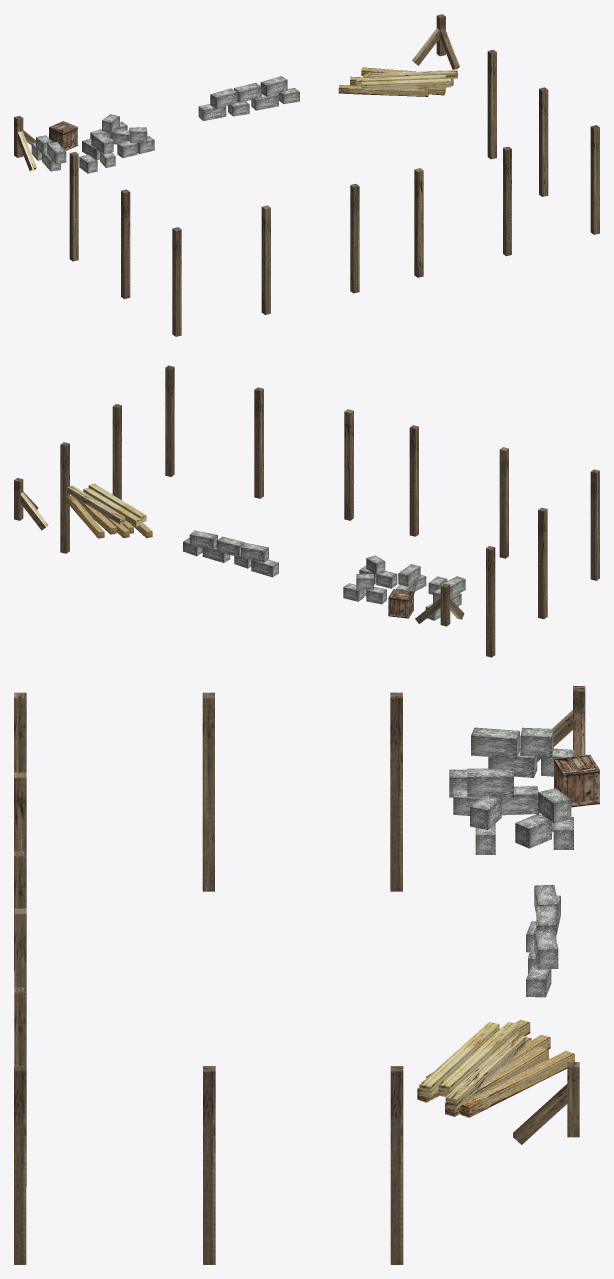
File: found_dock_6x4.dae
The picture shows the model from 3 angles, top to bottom: view 1: azimuth 30°, elevation 25°; view 2: azimuth 150°, elevation 25°; view 3: azimuth 270°, elevation 25°; orthographic projection. The views are drawn at different scales.
Visible parts, largest first — view 1: Object14_Pivot; view 2: Object14_Pivot; view 3: Object14_Pivot.
Part boxes in pixels (<box>): Object14_Pivot: <box>14,14,599,336</box>; Object14_Pivot: <box>14,365,599,657</box>; Object14_Pivot: <box>14,686,599,1264</box>.
Size of the model in its own units: 31.26 by 7.43 by 20.19.
